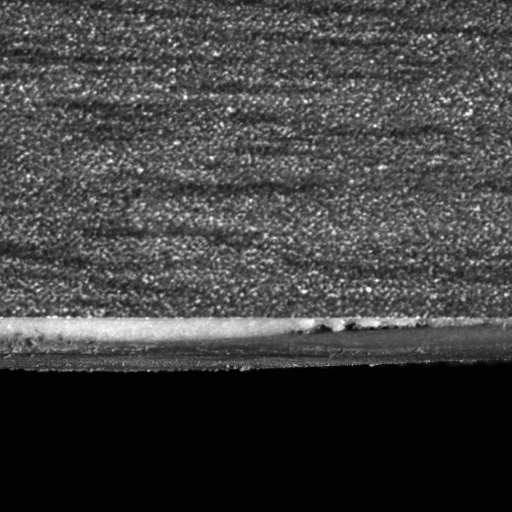kaijiao: (0, 314, 511, 376)
